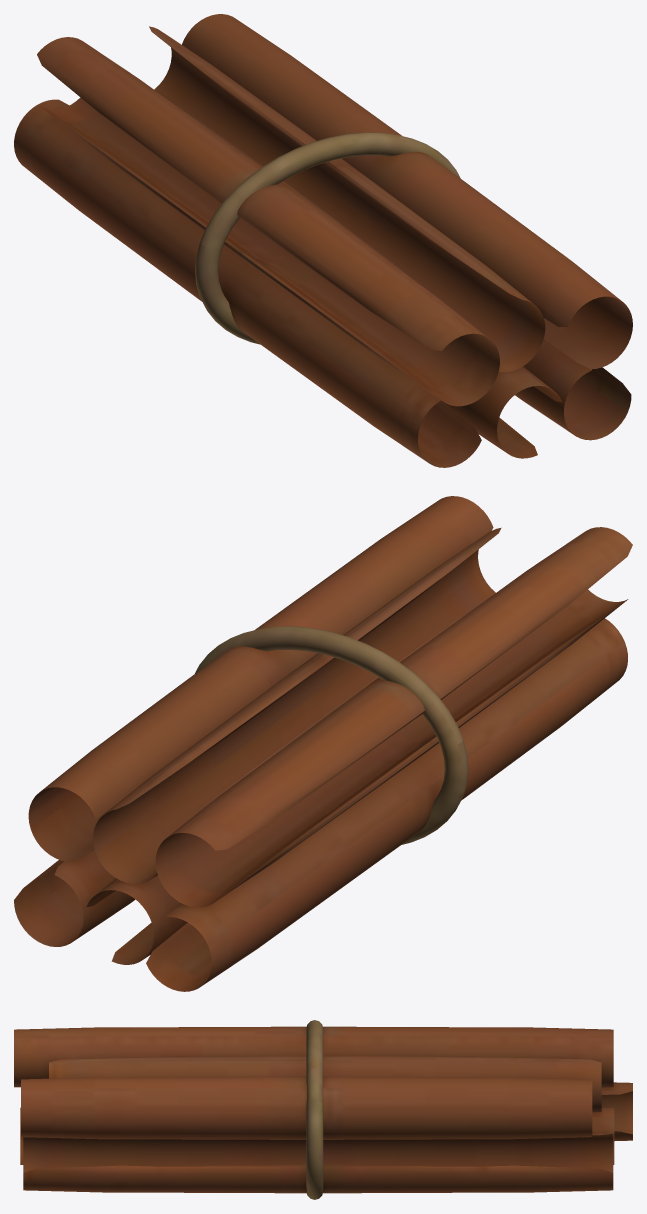
Rendered from cinnamon.glb.
3 views of the same model, one above another, from view 1: azimuth 30°, elevation 25°; view 2: azimuth 150°, elevation 25°; view 3: azimuth 270°, elevation 25° (orthographic). The views are drawn at different scales.
Visible parts, largest first — view 1: cinnamon; view 2: cinnamon; view 3: cinnamon.
Boxes of the visible parts, x1=… form: cinnamon: x1=14, y1=14, x2=632, y2=467; cinnamon: x1=14, y1=496, x2=632, y2=991; cinnamon: x1=14, y1=1020, x2=632, y2=1199.
Size of the model in its own units: 0.0432 by 0.0312 by 0.1157.
Materials: 1 (1 with a texture image).
